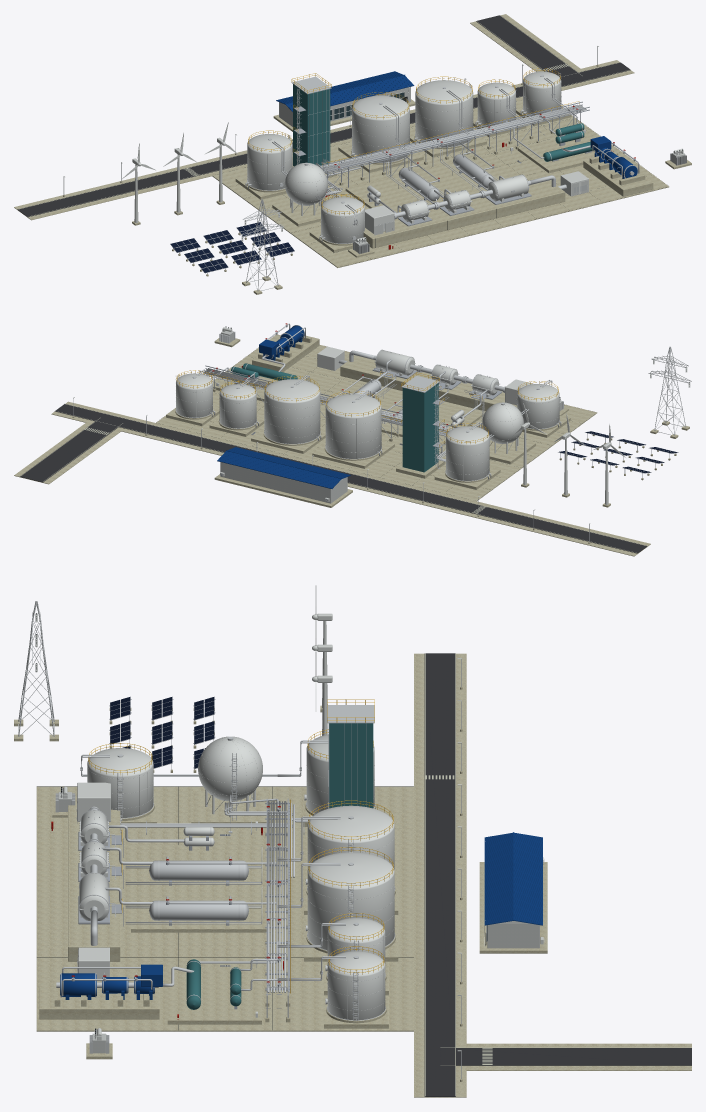
Rendered from station.glb.
3 renders of one model, top to bottom at view 1: azimuth 30°, elevation 25°; view 2: azimuth 150°, elevation 25°; view 3: azimuth 270°, elevation 25°, orthographic. The views are drawn at different scales.
Parts seen in each view (by area): view 1: web_01_规则矩形水泥地坪, web_02_站后道路, web_30_CMP_三级压缩机组, web_20_主工艺管廊, web_21_HX01_中央换热器组, web_tank_shell_3, web_tank_shell_2, web_50_PV_九组光伏组件, web_cold_shell, web_22_HX02_右侧换热器组, web_tank_shell_0, web_31_TG_蓝色透平发电机组 (+21 smaller); view 2: web_02_站后道路, web_01_规则矩形水泥地坪, web_30_CMP_三级压缩机组, web_tank_shell_2, web_tank_shell_3, web_cold_shell, web_03a_屋顶_可隐藏, web_tank_shell_0, web_03b_外墙与门窗_可隐藏, web_21_HX01_中央换热器组, web_tank_shell_1, web_31_TG_蓝色透平发电机组 (+19 smaller); view 3: web_01_规则矩形水泥地坪, web_02_站后道路, web_21_HX01_中央换热器组, web_30_CMP_三级压缩机组, web_tank_shell_3, web_22_HX02_右侧换热器组, web_03a_屋顶_可隐藏, web_31_TG_蓝色透平发电机组, web_20_主工艺管廊, web_tank_shell_2, web_exchanger_shell, web_cold_shell (+23 smaller).
Boxes of the visible parts, box(x1,y1,x2,y2) form: web_01_规则矩形水泥地坪: box(212, 100, 669, 267); web_02_站后道路: box(14, 14, 634, 220); web_30_CMP_三级压缩机组: box(363, 171, 588, 248); web_20_主工艺管廊: box(320, 101, 589, 195); web_21_HX01_中央换热器组: box(345, 141, 494, 212); web_tank_shell_3: box(415, 80, 473, 147); web_tank_shell_2: box(352, 95, 409, 162); web_50_PV_九组光伏组件: box(170, 222, 294, 276); web_cold_shell: box(293, 84, 330, 166); web_22_HX02_右侧换热器组: box(513, 109, 618, 173); web_tank_shell_0: box(247, 134, 292, 190); web_31_TG_蓝色透平发电机组: box(562, 136, 653, 196); web_02_站后道路: box(14, 401, 650, 556); web_01_规则矩形水泥地坪: box(156, 334, 597, 501); web_30_CMP_三级压缩机组: box(317, 346, 533, 417); web_tank_shell_2: box(325, 394, 381, 458); web_tank_shell_3: box(264, 379, 320, 443); web_cold_shell: box(402, 383, 438, 472); web_03a_屋顶_可隐藏: box(217, 447, 350, 488); web_tank_shell_0: box(446, 426, 489, 480); web_03b_外墙与门窗_可隐藏: box(220, 462, 347, 503); web_21_HX01_中央换热器组: box(335, 373, 484, 445); web_tank_shell_1: box(517, 384, 559, 428); web_31_TG_蓝色透平发电机组: box(252, 323, 319, 372); web_01_规则矩形水泥地坪: box(36, 786, 413, 1031); web_02_站后道路: box(414, 653, 691, 1097); web_21_HX01_中央换热器组: box(120, 827, 276, 932); web_30_CMP_三级压缩机组: box(68, 782, 184, 980); web_tank_shell_3: box(307, 852, 394, 950); web_22_HX02_右侧换热器组: box(167, 941, 278, 1024); web_03a_屋顶_可隐藏: box(484, 832, 542, 925); web_31_TG_蓝色透平发电机组: box(39, 964, 193, 1019); web_20_主工艺管廊: box(265, 798, 290, 1022); web_tank_shell_2: box(307, 805, 394, 869); web_exchanger_shell: box(149, 860, 248, 920); web_cold_shell: box(329, 723, 373, 808).
Size of what is drawn, in the model's own units: 200 by 28.86 by 129.
14 materials, 14 textured.
